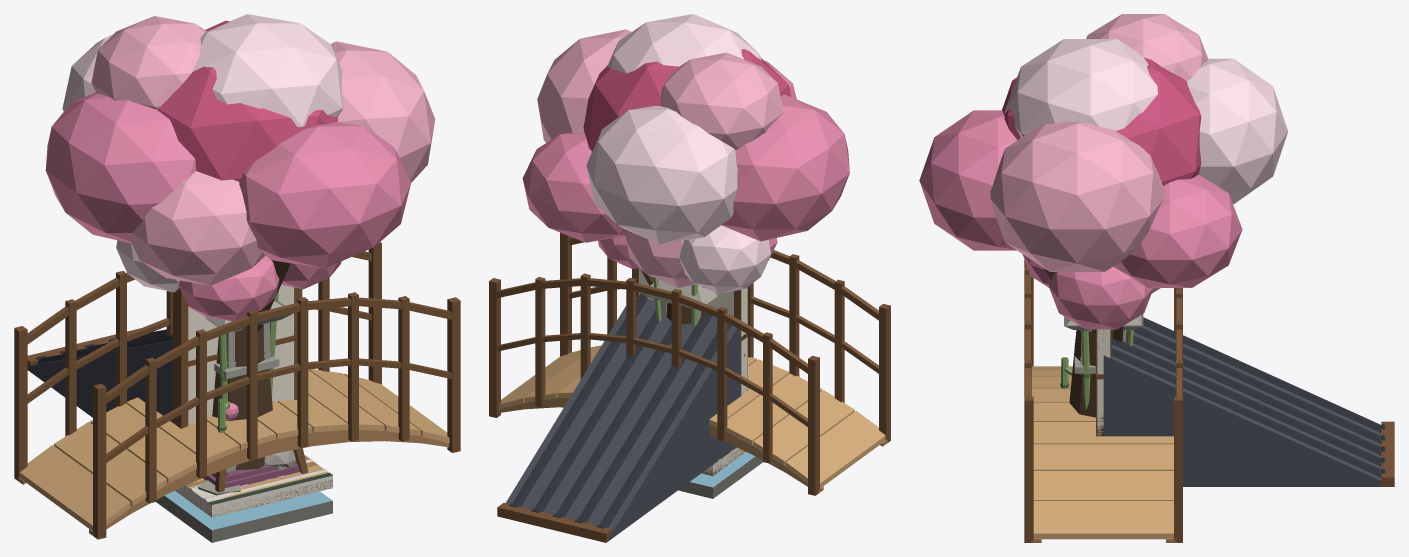
The model's file is sakura_kit.glb.
The picture shows the model from 3 angles, left to right: view 1: azimuth 30°, elevation 25°; view 2: azimuth 150°, elevation 25°; view 3: azimuth 270°, elevation 25°; orthographic projection. The views are drawn at different scales.
Parts seen in each view (by area): view 1: sakura_tree_sakura_a, sakura_garden_bridge_3m, sakura_tree_sakura_b, sakura_roof_eave_1m, sakura_floor_water, sakura_wall_plain_1m, sakura_floor_gravel_raked, sakura_door_shoji_1m_open, sakura_garden_lantern_stone, sakura_floor_wood, sakura_prop_cushion, sakura_garden_bamboo_cluster; view 2: sakura_tree_sakura_a, sakura_garden_bridge_3m, sakura_roof_eave_1m, sakura_tree_sakura_b, sakura_floor_water, sakura_wall_plain_1m, sakura_garden_lantern_stone, sakura_door_shoji_1m_open; view 3: sakura_tree_sakura_a, sakura_roof_eave_1m, sakura_garden_bridge_3m, sakura_tree_sakura_b, sakura_wall_plain_1m, sakura_garden_lantern_stone, sakura_garden_bamboo_cluster.
Boxes of the visible parts, x1=… form: sakura_tree_sakura_a: x1=45, y1=14, x2=435, y2=470; sakura_garden_bridge_3m: x1=14, y1=242, x2=460, y2=539; sakura_tree_sakura_b: x1=116, y1=240, x2=341, y2=321; sakura_roof_eave_1m: x1=27, y1=328, x2=172, y2=422; sakura_floor_water: x1=156, y1=491, x2=332, y2=542; sakura_wall_plain_1m: x1=173, y1=284, x2=297, y2=424; sakura_floor_gravel_raked: x1=175, y1=455, x2=332, y2=517; sakura_door_shoji_1m_open: x1=172, y1=287, x2=302, y2=428; sakura_garden_lantern_stone: x1=205, y1=300, x2=293, y2=472; sakura_floor_wood: x1=176, y1=455, x2=332, y2=517; sakura_prop_cushion: x1=203, y1=463, x2=299, y2=488; sakura_garden_bamboo_cluster: x1=219, y1=290, x2=278, y2=420; sakura_tree_sakura_a: x1=522, y1=14, x2=849, y2=324; sakura_garden_bridge_3m: x1=489, y1=232, x2=890, y2=495; sakura_roof_eave_1m: x1=497, y1=293, x2=740, y2=542; sakura_tree_sakura_b: x1=598, y1=225, x2=777, y2=302; sakura_floor_water: x1=678, y1=452, x2=762, y2=498; sakura_wall_plain_1m: x1=639, y1=268, x2=747, y2=395; sakura_garden_lantern_stone: x1=639, y1=280, x2=718, y2=321; sakura_door_shoji_1m_open: x1=632, y1=268, x2=747, y2=395; sakura_tree_sakura_a: x1=919, y1=14, x2=1287, y2=417; sakura_roof_eave_1m: x1=1103, y1=317, x2=1394, y2=486; sakura_garden_bridge_3m: x1=1024, y1=260, x2=1182, y2=542; sakura_tree_sakura_b: x1=1022, y1=254, x2=1160, y2=341; sakura_wall_plain_1m: x1=1096, y1=329, x2=1110, y2=435; sakura_garden_lantern_stone: x1=1064, y1=314, x2=1143, y2=374; sakura_garden_bamboo_cluster: x1=1081, y1=329, x2=1133, y2=409.
Size of the model in its own units: 3 by 3.8 by 3.6.
Materials: 1 (1 with a texture image).
